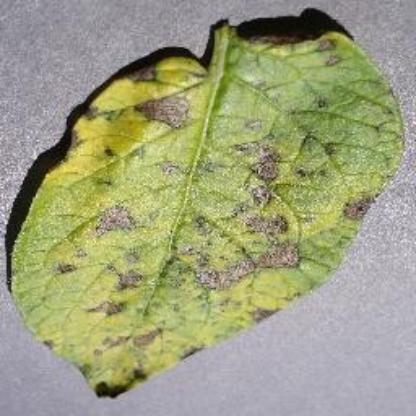Early-Blight: (6, 15, 404, 399)
